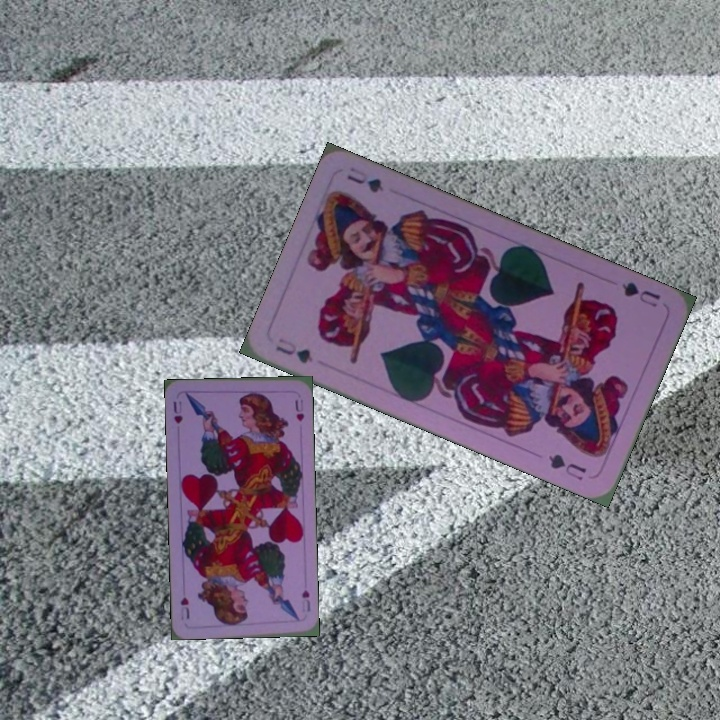GU: (617, 277, 663, 310), (271, 334, 316, 367)
HU: (169, 397, 185, 426), (298, 586, 313, 614)
